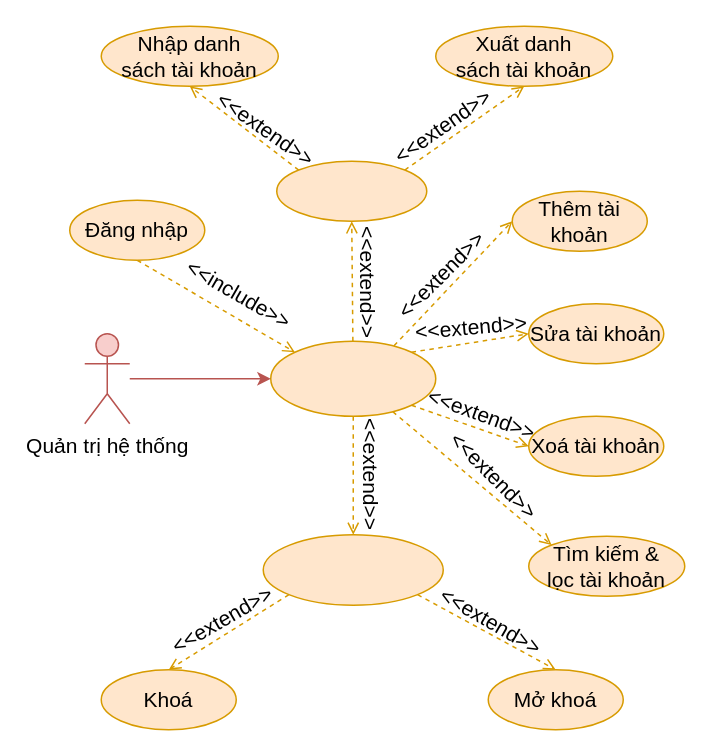
The diagram is 711 pixels wide and 756 high, and some of its shapes have lost their labels. Each missing label, with the centre of its shape:
"Nhập/Xuất" belongs at [351,190].
"Quản lý khoá tài khoản" belongs at [352,569].
"Quản lý tài khoản" belongs at [352,378].
